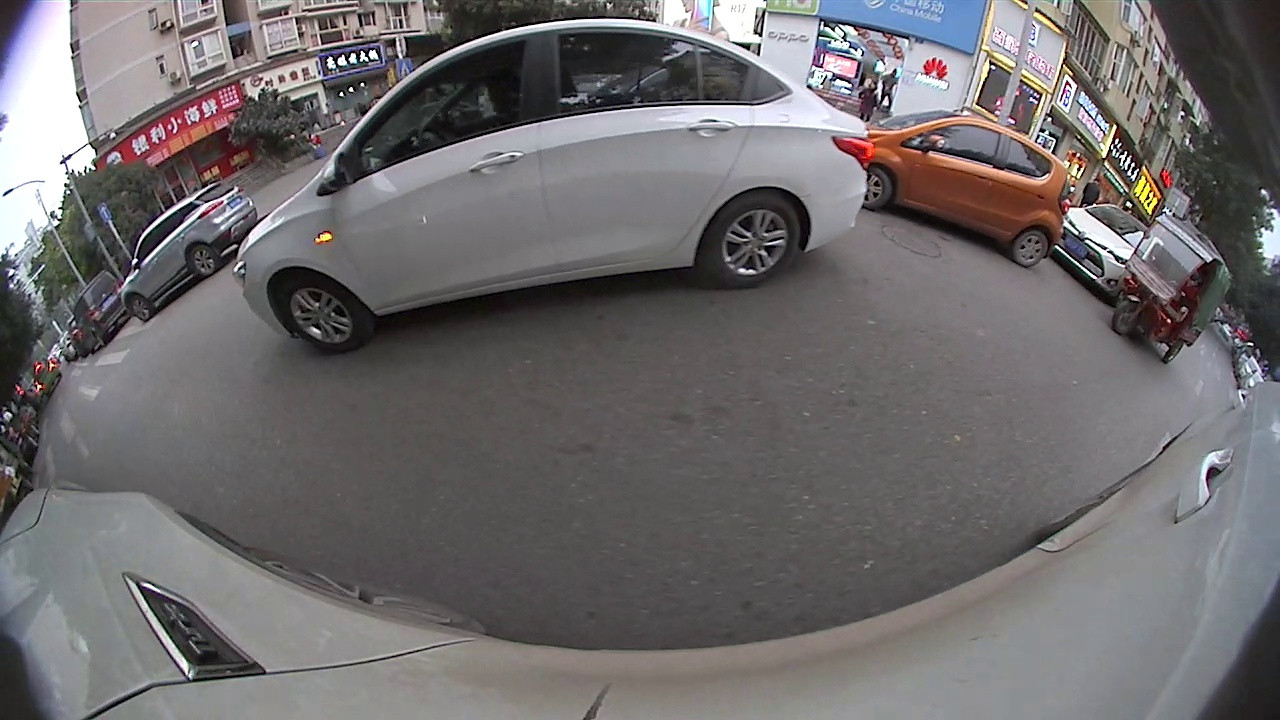car: (233, 18, 874, 360), (863, 106, 1076, 267), (116, 176, 261, 326), (1051, 199, 1157, 303), (68, 267, 133, 355)
front: (270, 275, 370, 351), (851, 170, 902, 208), (1109, 296, 1143, 333), (125, 296, 157, 322)
rear: (702, 195, 808, 286), (1018, 225, 1051, 269), (186, 243, 225, 278)
rider: (1107, 208, 1236, 367)
